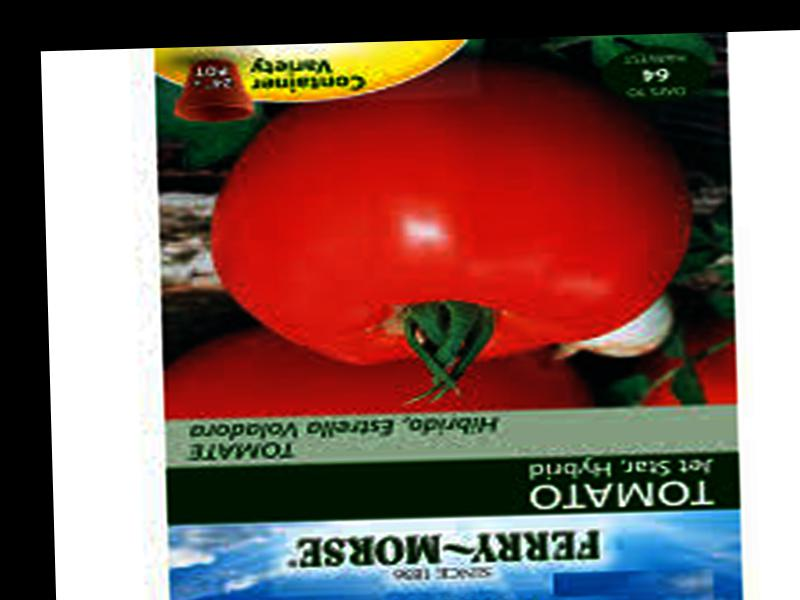Tomato: (211, 54, 696, 368)
